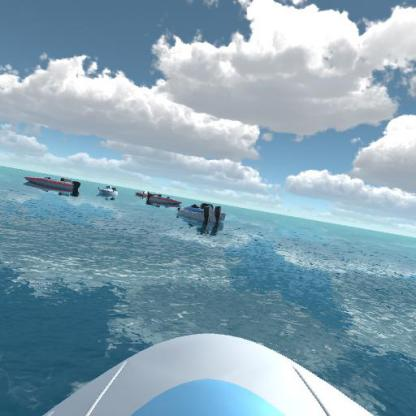usv1: (176, 199, 231, 229), (98, 182, 122, 201)
usv3: (21, 170, 83, 198), (146, 192, 182, 208), (135, 186, 148, 198)
